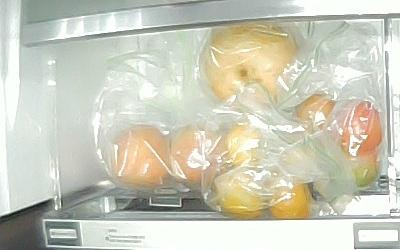peach_vinyl: (111, 124, 170, 190), (170, 123, 225, 188)
pear_vinyl: (201, 24, 299, 106)
tangerine_vinyl: (216, 172, 264, 218), (268, 174, 311, 219), (226, 121, 265, 168)
tomato_vinyl: (332, 100, 383, 157), (297, 94, 336, 134)
